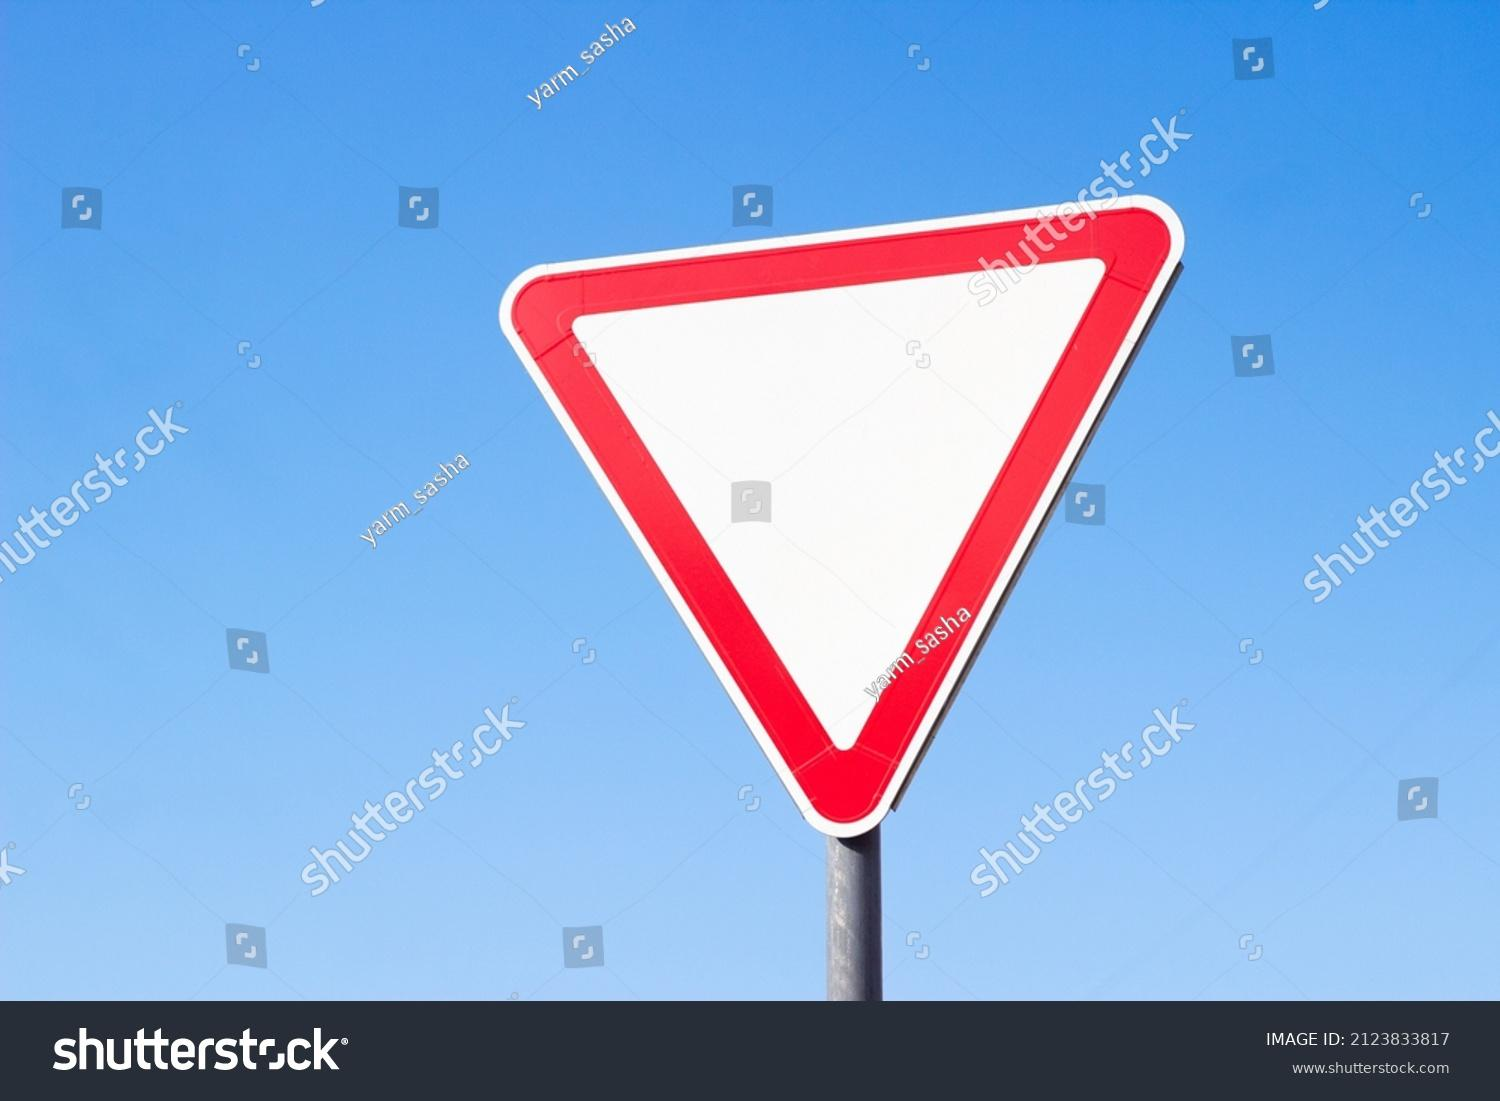Give Way: (473, 165, 1231, 828)
